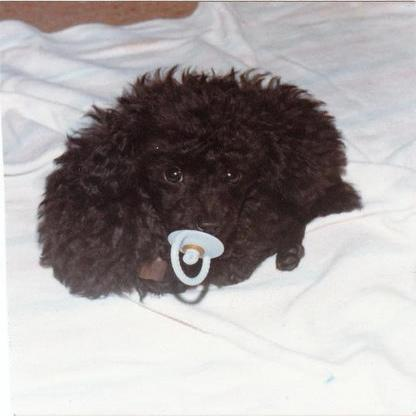toy_poodle: (34, 62, 361, 304)
